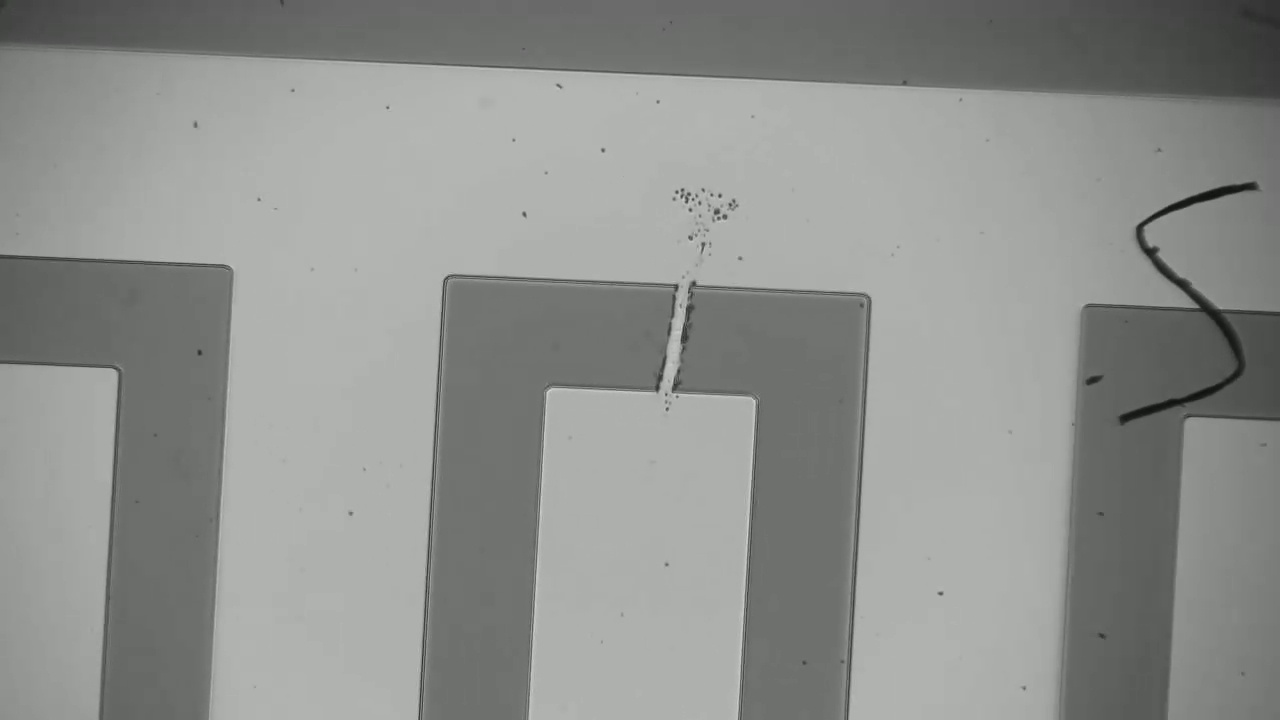Short_circuit: (618, 268, 721, 412)
